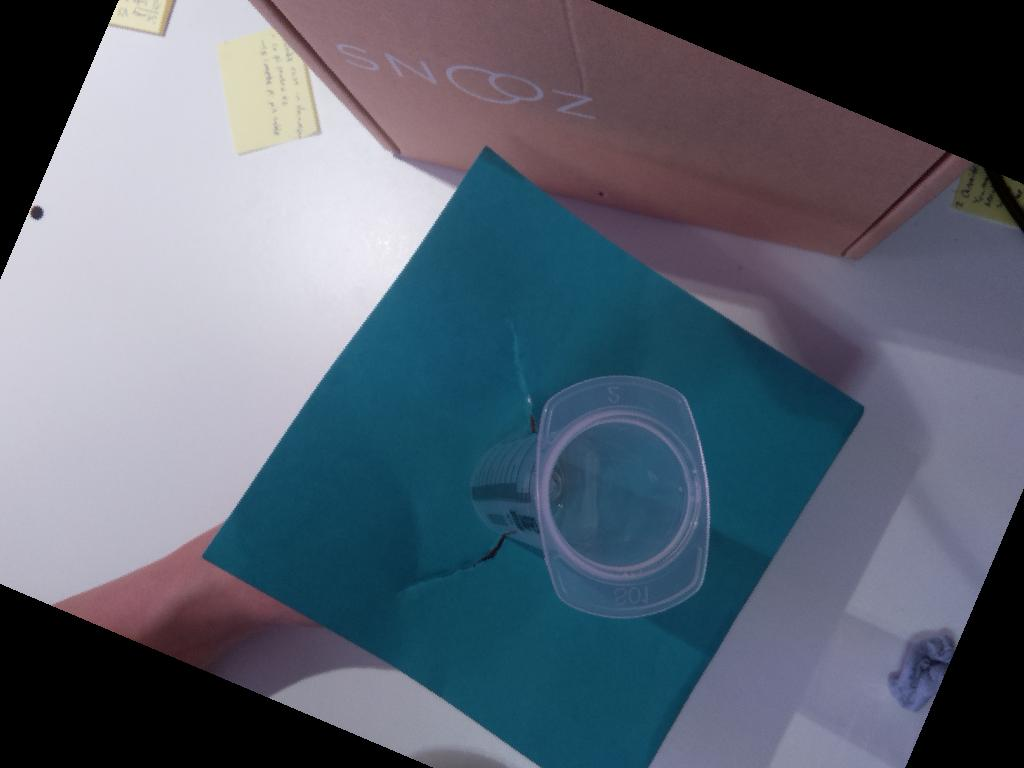clean: (528, 371, 716, 623)
